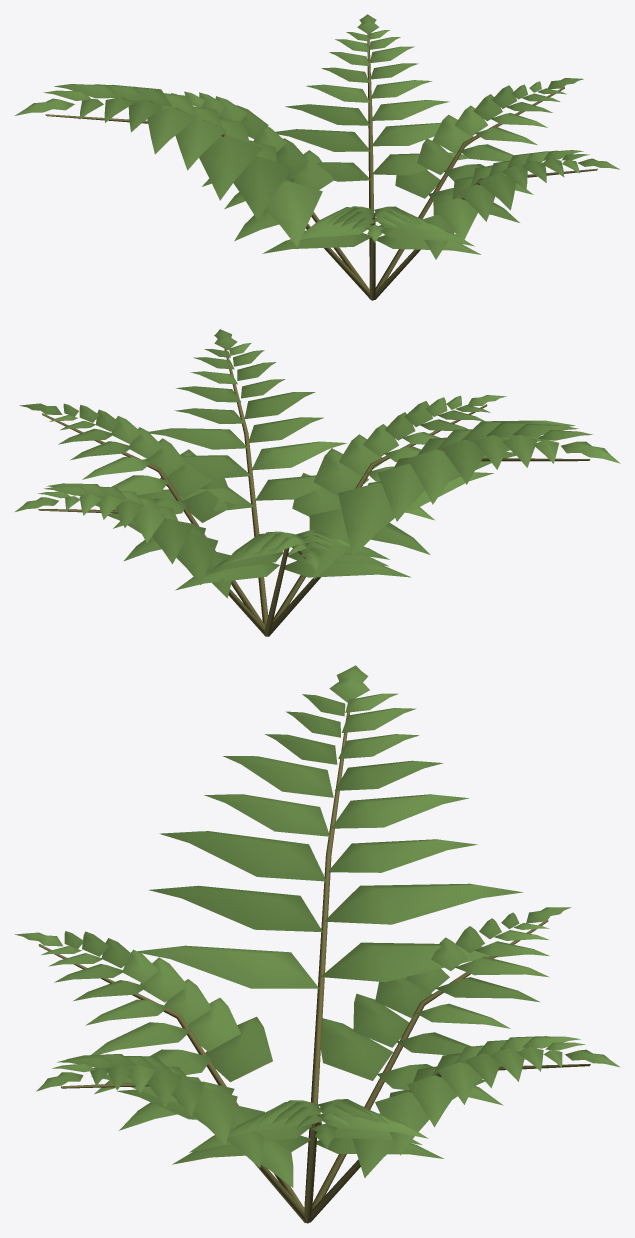
File: lady_fern.glb
The picture shows the model from 3 angles, top to bottom: view 1: azimuth 30°, elevation 25°; view 2: azimuth 150°, elevation 25°; view 3: azimuth 270°, elevation 25°; orthographic projection. The views are drawn at different scales.
Parts seen in each view (by area): view 1: lady_fern; view 2: lady_fern; view 3: lady_fern.
Part boxes in pixels (x1=…): lady_fern: x1=14, y1=14, x2=619, y2=300; lady_fern: x1=14, y1=329, x2=620, y2=636; lady_fern: x1=14, y1=665, x2=620, y2=1223.
Size of the model in its own units: 0.9193 by 0.41 by 0.6502.
